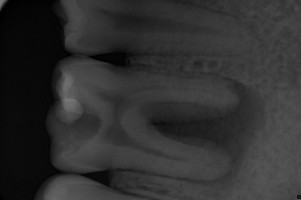Dental Caries: (153, 78, 267, 192)
